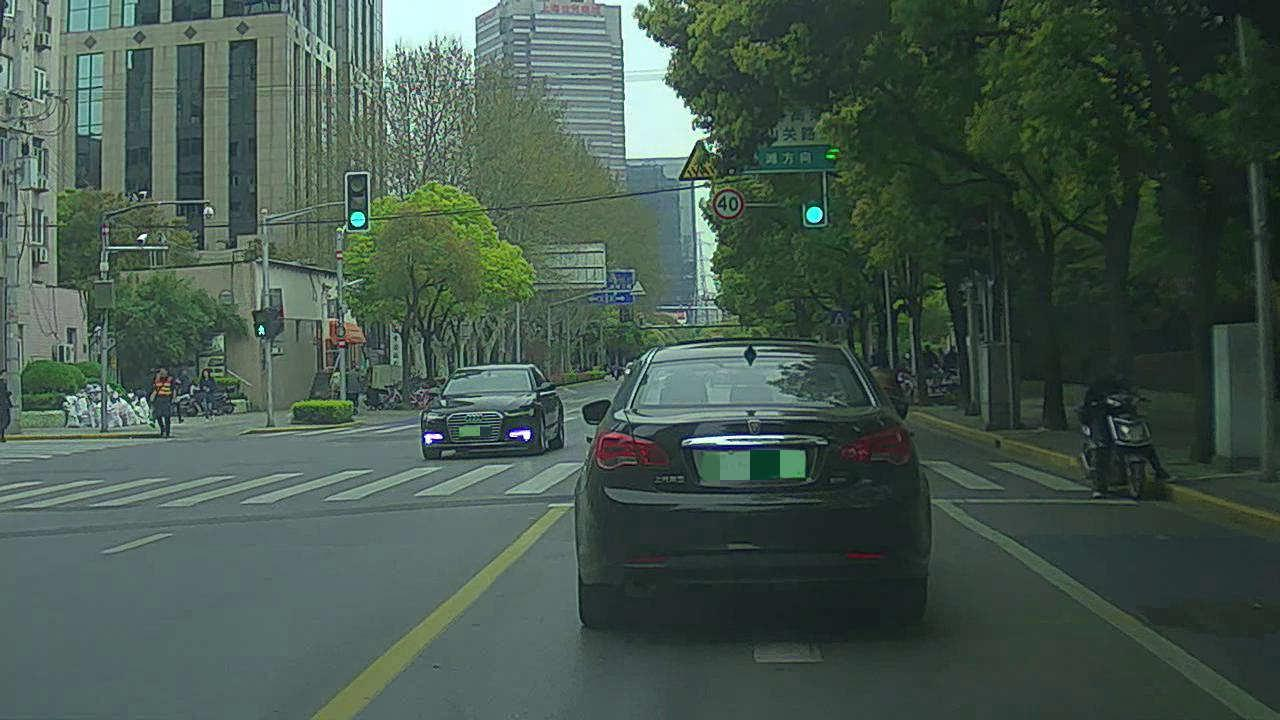traffic_light: (345, 177, 374, 233)
